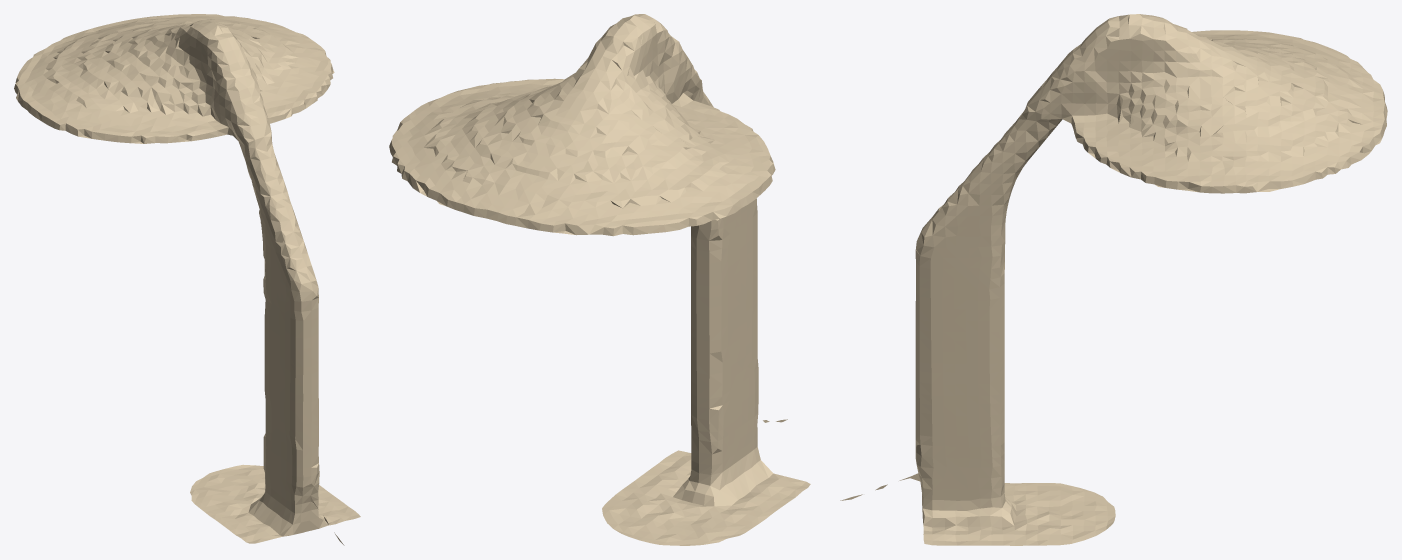
The model's file is skulptur-06.glb.
3 views of the same model, side by side, from view 1: azimuth 30°, elevation 25°; view 2: azimuth 150°, elevation 25°; view 3: azimuth 270°, elevation 25° (orthographic). The views are drawn at different scales.
Parts seen in each view (by area): view 1: skulptur-06; view 2: skulptur-06; view 3: skulptur-06.
Part boxes in pixels (box(x1,y1,x2,y2)): skulptur-06: box(14, 14, 360, 545); skulptur-06: box(389, 14, 810, 545); skulptur-06: box(840, 14, 1387, 545).
Size of the model in its own units: 0.6508 by 0.9763 by 0.9612.
